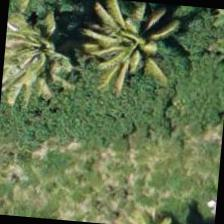Kelapa_Sawit: (89, 0, 188, 98), (1, 4, 89, 102)
